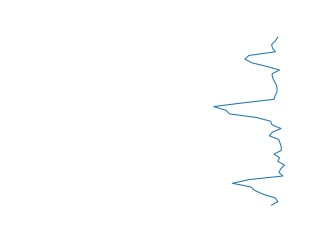underwaterNaturalLevee: (208, 35, 291, 209)
